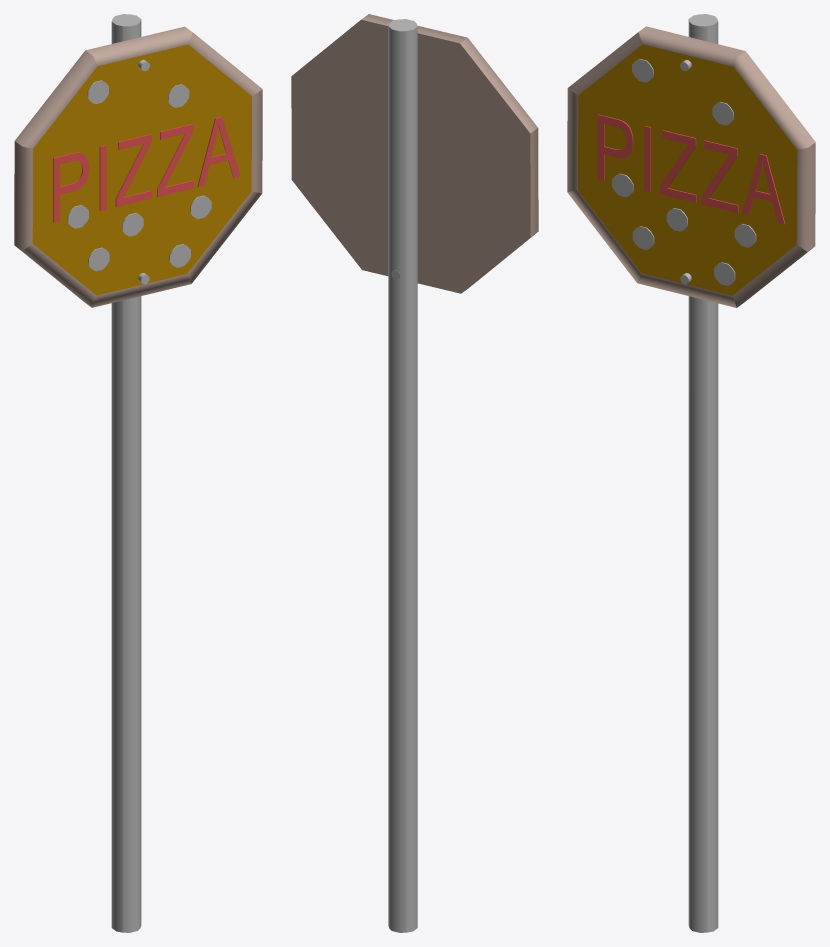
Rendered from Stop Sign Pizza Variant.fbx.
The picture shows the model from 3 angles, left to right: view 1: azimuth 30°, elevation 25°; view 2: azimuth 150°, elevation 25°; view 3: azimuth 330°, elevation 25°; orthographic projection.
Visible parts, largest first — view 1: polySurface9; view 2: polySurface9; view 3: polySurface9.
Boxes of the visible parts, x1,y1,x2,y2 form: polySurface9: [14, 14, 262, 932]; polySurface9: [291, 14, 538, 932]; polySurface9: [567, 14, 815, 932].
Bounding box in the file's own units: 7.01 × 25.2 × 1.34.
